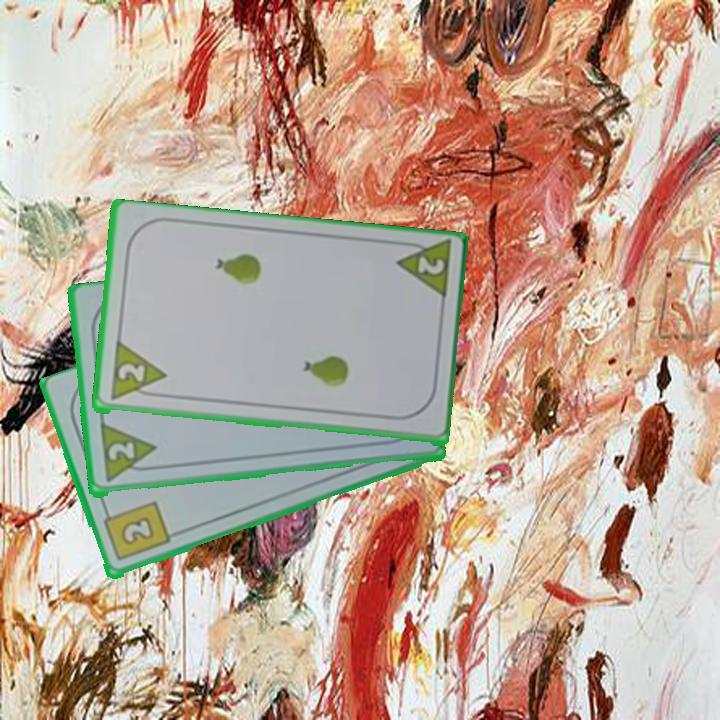2b: (100, 498, 172, 564)
2p: (392, 238, 454, 305), (96, 422, 160, 486), (106, 341, 168, 405)
